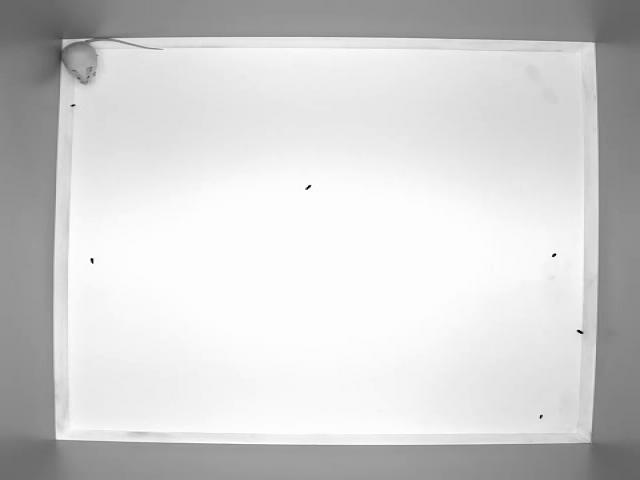Tikus: (59, 37, 165, 85)
